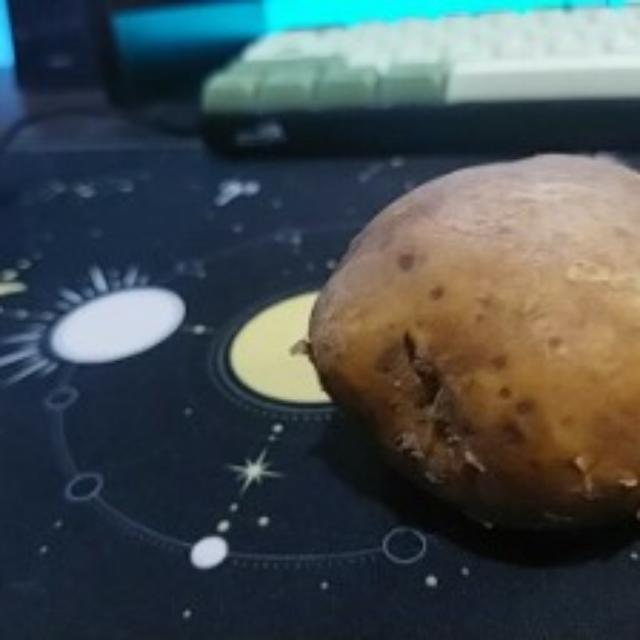Damaged potato: (296, 154, 640, 566)
